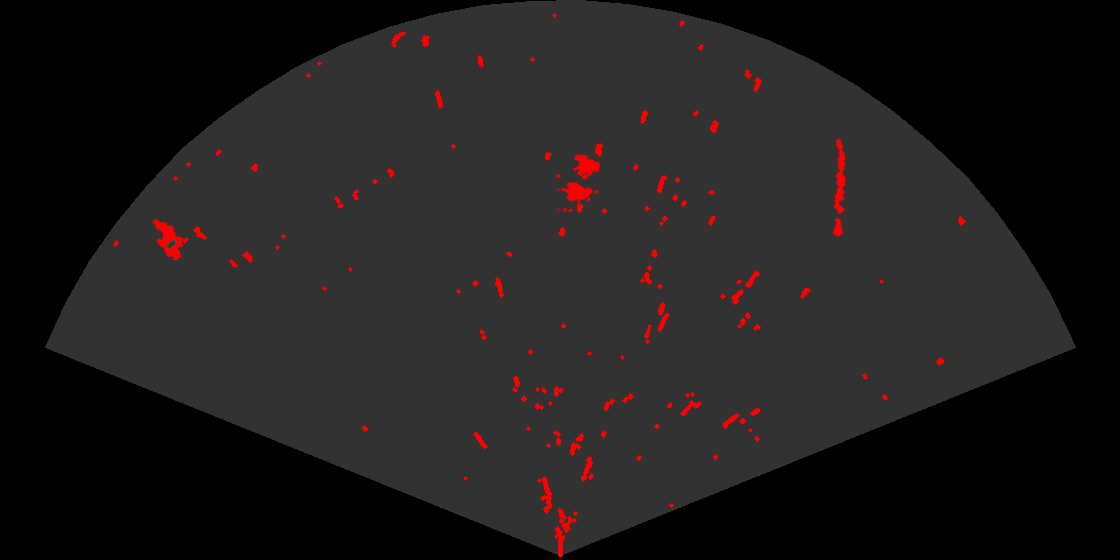AUV: (152, 217, 185, 262)
cage: (556, 152, 602, 212)
chain: (831, 137, 847, 238)
